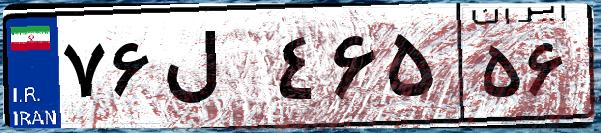4: (270, 28, 330, 110)
5: (385, 28, 445, 110), (475, 38, 525, 113)
6: (330, 28, 385, 110), (525, 38, 570, 115), (110, 28, 158, 98)
7: (57, 26, 110, 100)
ل: (158, 20, 270, 120)
